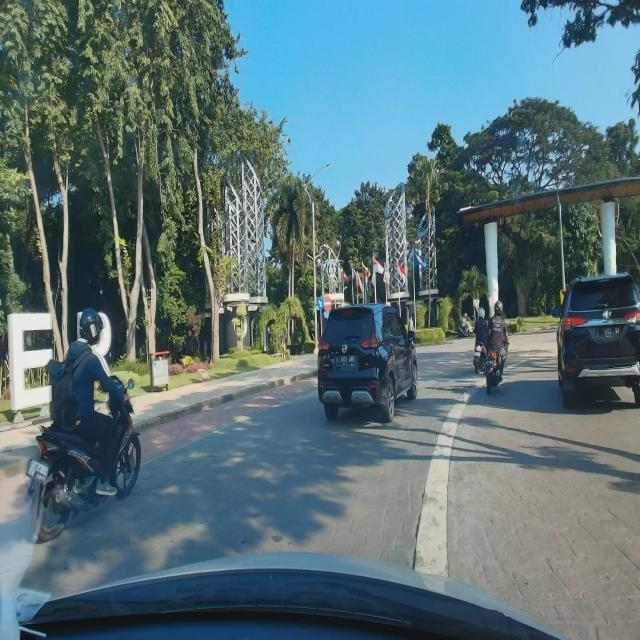car: (317, 302, 418, 424), (555, 268, 640, 409)
license-plate: (596, 325, 621, 341), (336, 354, 355, 366)
